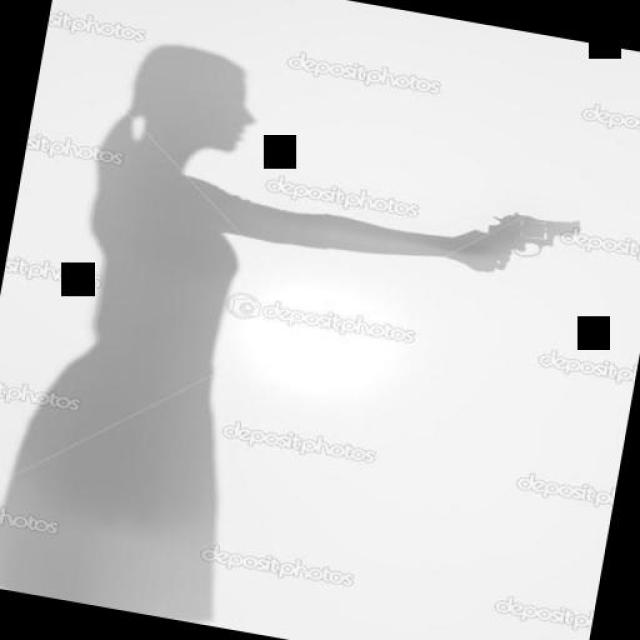gun: (461, 194, 590, 286)
